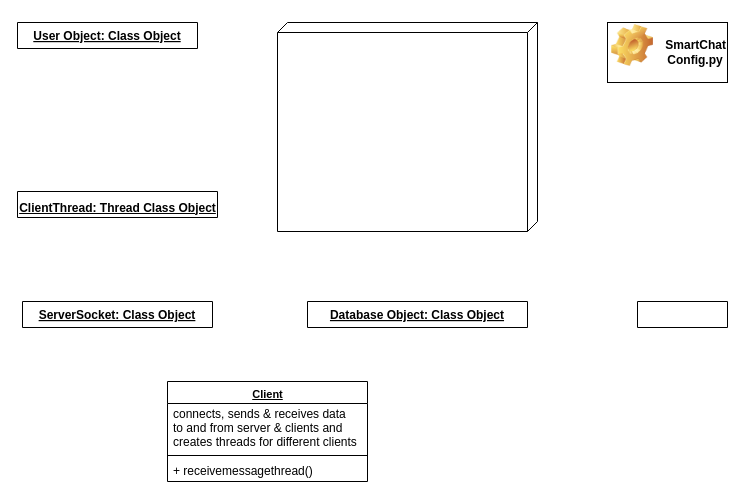
This 745x499 diagram has some shape labels left out. The shapes that lost their labels are listed below. From the top down, each one's centre as x and y in pixels, then its label:
the point at 632,52: YML
the point at 407,127: SERVER
the point at 682,314: Protocol.py
